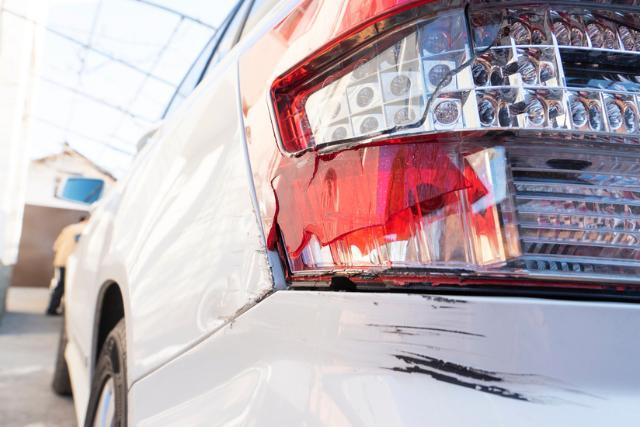Bumper: (329, 293, 530, 421)
Light: (250, 13, 640, 278)
